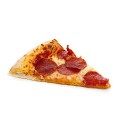pepperonipizza: (4, 37, 114, 90)
